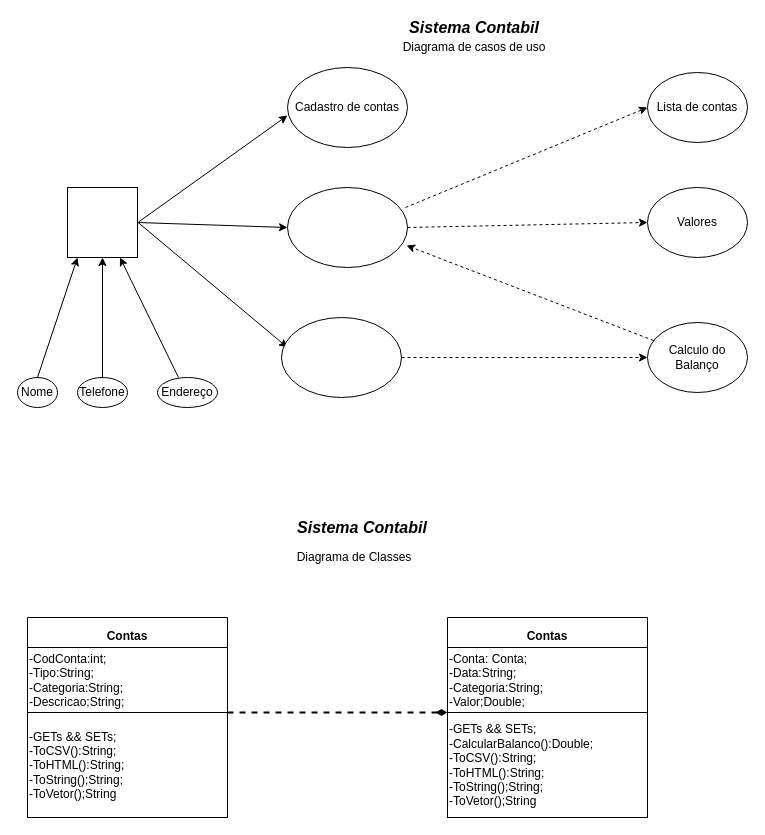
Image size: 765x835. Some labels were removed from this diagram. The centre of each missing label's shape, as x and y in pixels:
Contador: (102,222)
Registro de Lançamento de contas: (347,227)
Relatorio: (341,357)
